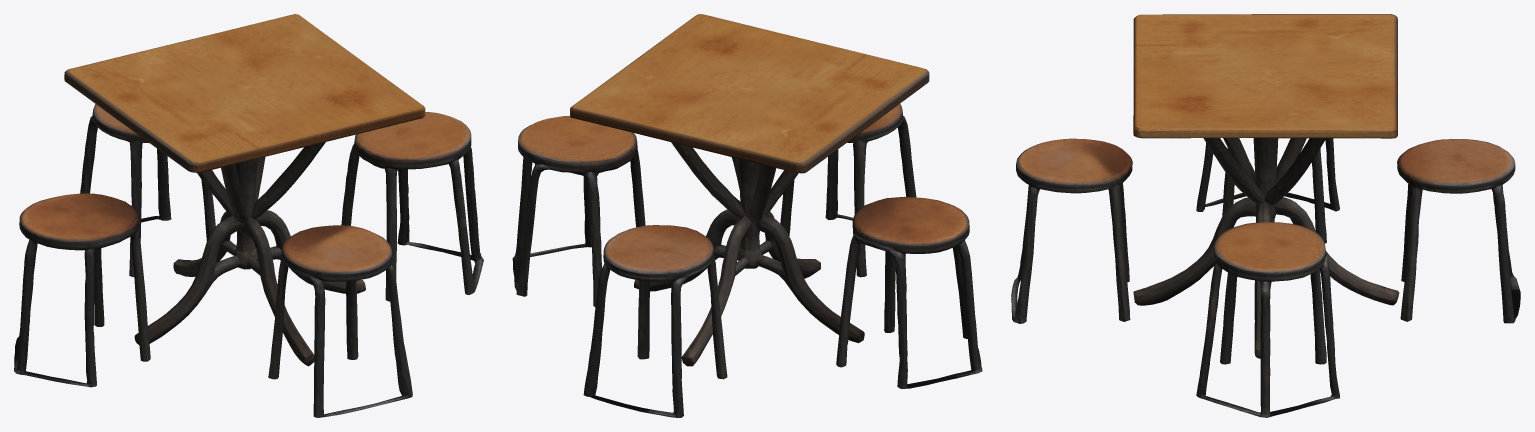
The picture shows the model from 3 angles, left to right: view 1: azimuth 30°, elevation 25°; view 2: azimuth 150°, elevation 25°; view 3: azimuth 270°, elevation 25°; orthographic projection.
Visible parts, largest first — view 1: world.004; view 2: world.004; view 3: world.004.
Boxes of the visible parts, x1,y1,x2,y2 form: world.004: [14, 14, 483, 417]; world.004: [512, 14, 982, 417]; world.004: [1011, 14, 1520, 417].
Bounding box in the file's own units: 98.49 × 46.65 × 91.84.
Materials: 1 (1 with a texture image).
